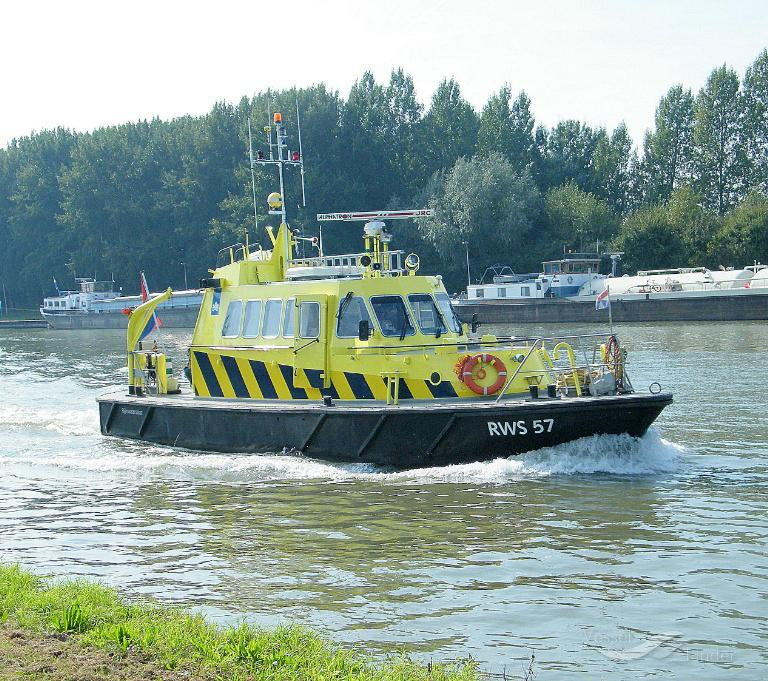OCR: (486, 414, 556, 446)
